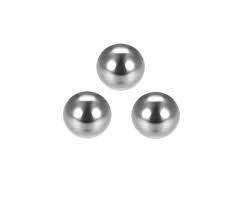steelball: (59, 86, 110, 144), (97, 35, 147, 92), (130, 92, 179, 141)
